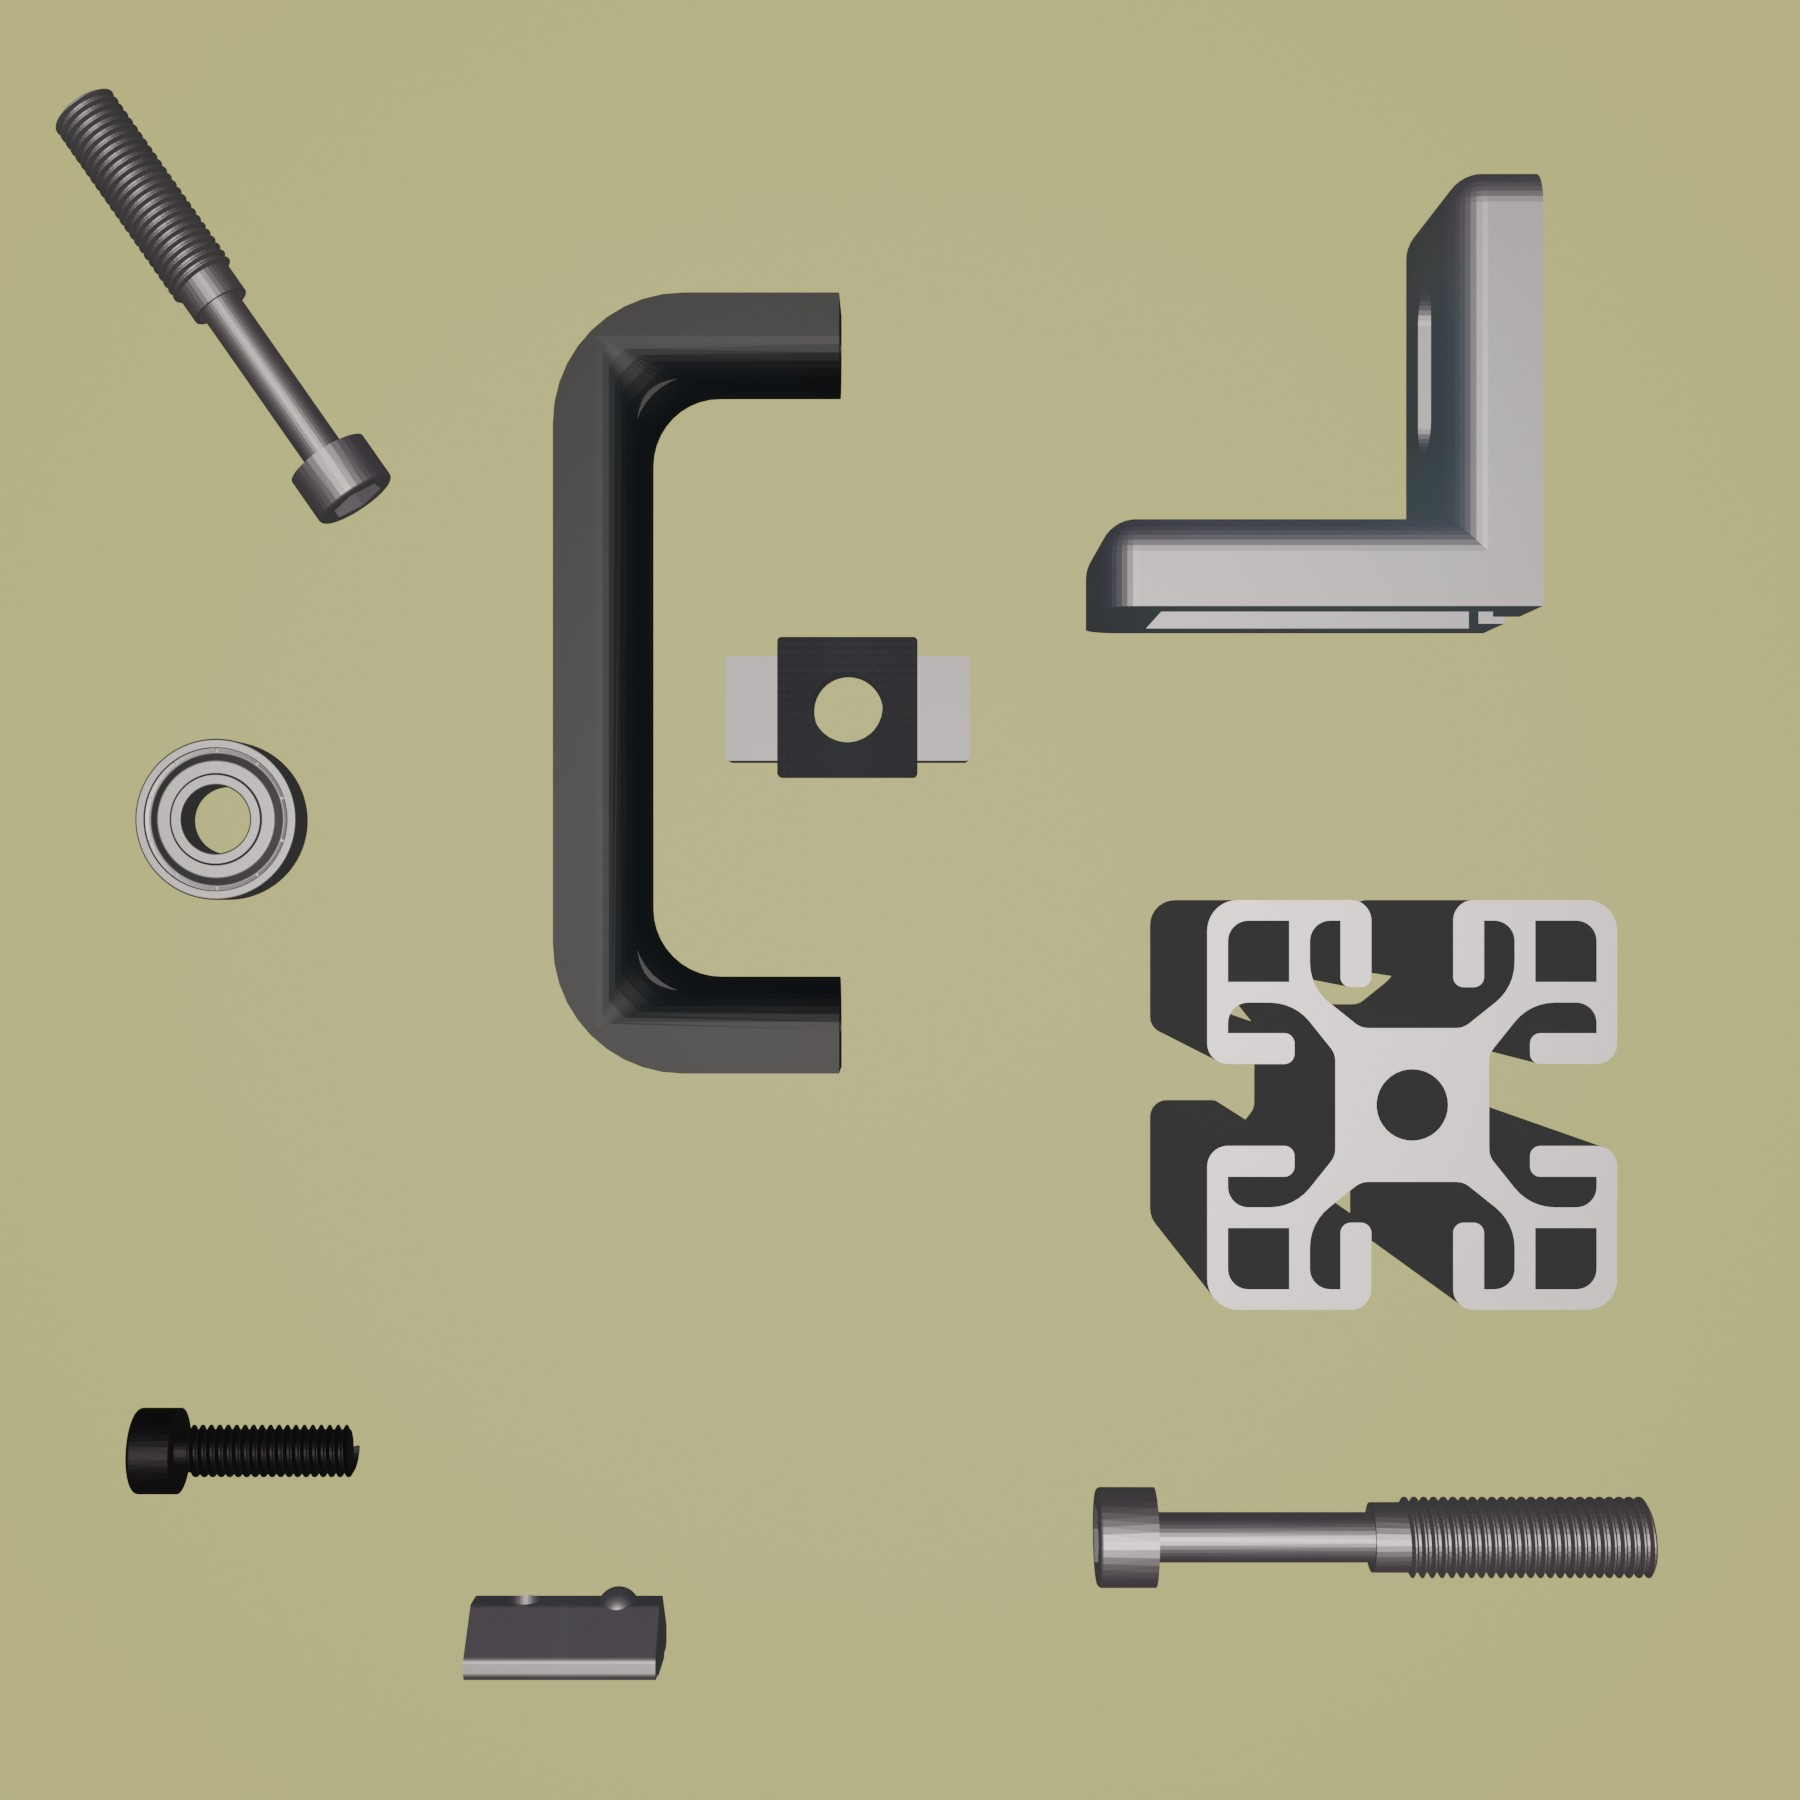Aluminium Extension: (1146, 893, 1620, 1319)
Ball Bearing: (135, 737, 308, 902)
Multiwinkel: (1083, 170, 1553, 638)
Pull Handle: (546, 287, 846, 1080)
Shoulder Socket Head Cap Screw: (54, 86, 392, 524), (1090, 1484, 1662, 1592)
Socket Head Cap Screw: (125, 1404, 361, 1497)
T Nut Square: (725, 631, 971, 781)
T Spring Nut: (458, 1584, 669, 1685)
